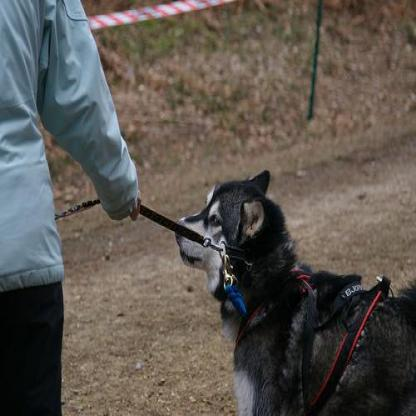malamute: (172, 165, 414, 413)
